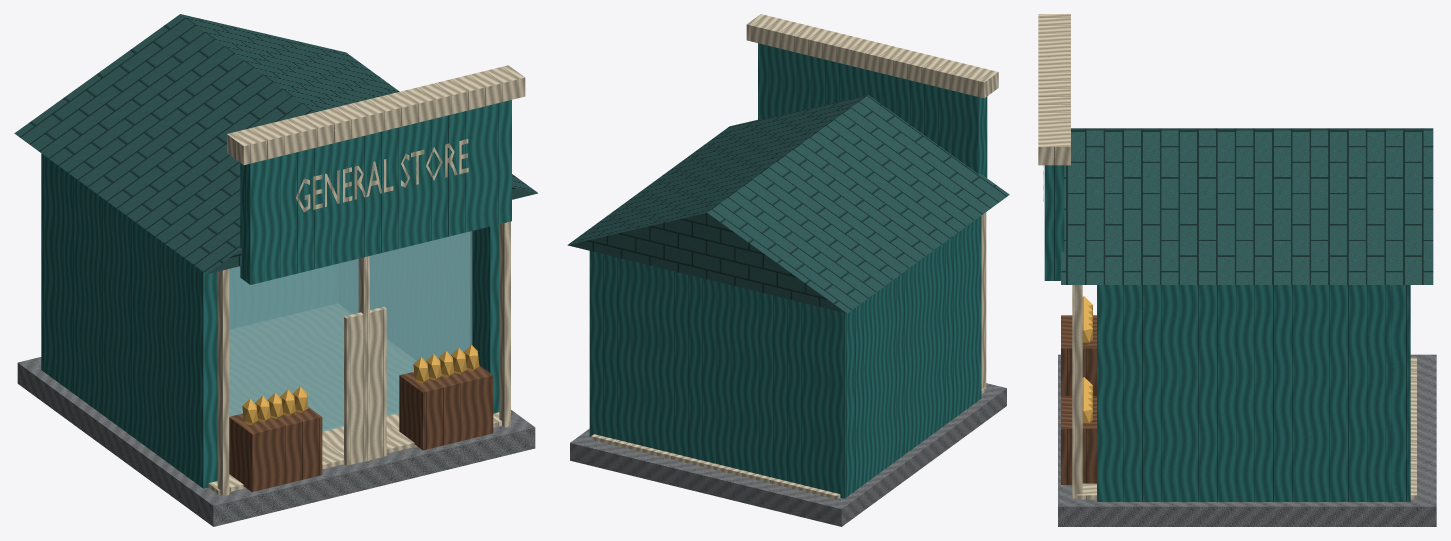
File: shop.glb
3 views of the same model, side by side, from view 1: azimuth 30°, elevation 25°; view 2: azimuth 150°, elevation 25°; view 3: azimuth 270°, elevation 25° (orthographic). The views are drawn at different scales.
Visible parts, largest first — view 1: gable_roof, side_wall, false_front, window_back, foundation, cornice, crate.001, crate, door, side_wall.001, front_post, front_post.002 (+4 smaller); view 2: gable_roof, rear_wall, side_wall, false_front, foundation, cornice, floor, front_post; view 3: side_wall.001, gable_roof, foundation, cornice, rear_wall, front_post.002, false_front, crate.001, crate, floor.
Boxes of the visible parts, x1,y1,x2,y2 form: gable_roof: [14, 14, 537, 273]; side_wall: [49, 161, 217, 488]; false_front: [240, 100, 511, 284]; window_back: [229, 231, 472, 431]; foundation: [17, 357, 535, 526]; cornice: [227, 65, 525, 164]; crate.001: [399, 365, 493, 450]; crate: [229, 407, 322, 491]; door: [344, 307, 386, 465]; side_wall.001: [470, 224, 499, 413]; front_post: [217, 269, 229, 496]; front_post.002: [499, 221, 510, 427]; gable_roof: [567, 95, 1009, 313]; rear_wall: [589, 251, 853, 498]; side_wall: [850, 216, 981, 493]; false_front: [758, 43, 987, 177]; foundation: [570, 383, 1006, 526]; cornice: [746, 14, 998, 98]; floor: [591, 387, 985, 499]; front_post: [981, 212, 986, 389]; side_wall.001: [1097, 285, 1397, 501]; gable_roof: [1061, 128, 1433, 284]; foundation: [1058, 354, 1436, 526]; cornice: [1038, 14, 1070, 165]; rear_wall: [1391, 285, 1410, 501]; front_post.002: [1072, 285, 1082, 498]; false_front: [1044, 165, 1064, 280]; crate.001: [1061, 396, 1096, 484]; crate: [1061, 315, 1096, 395]; floor: [1077, 357, 1416, 499].
Size of the model in its own units: 3.3 by 3.64 by 3.55.
8 materials, 6 textured.
